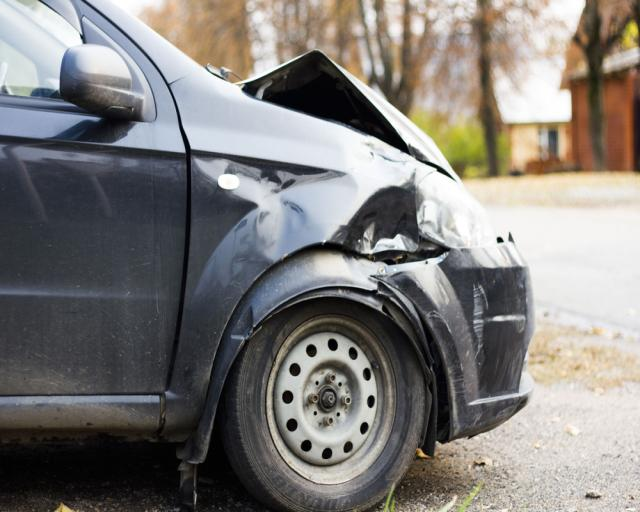dent: (229, 160, 416, 264), (232, 307, 252, 340)
scratch: (468, 282, 488, 355)
